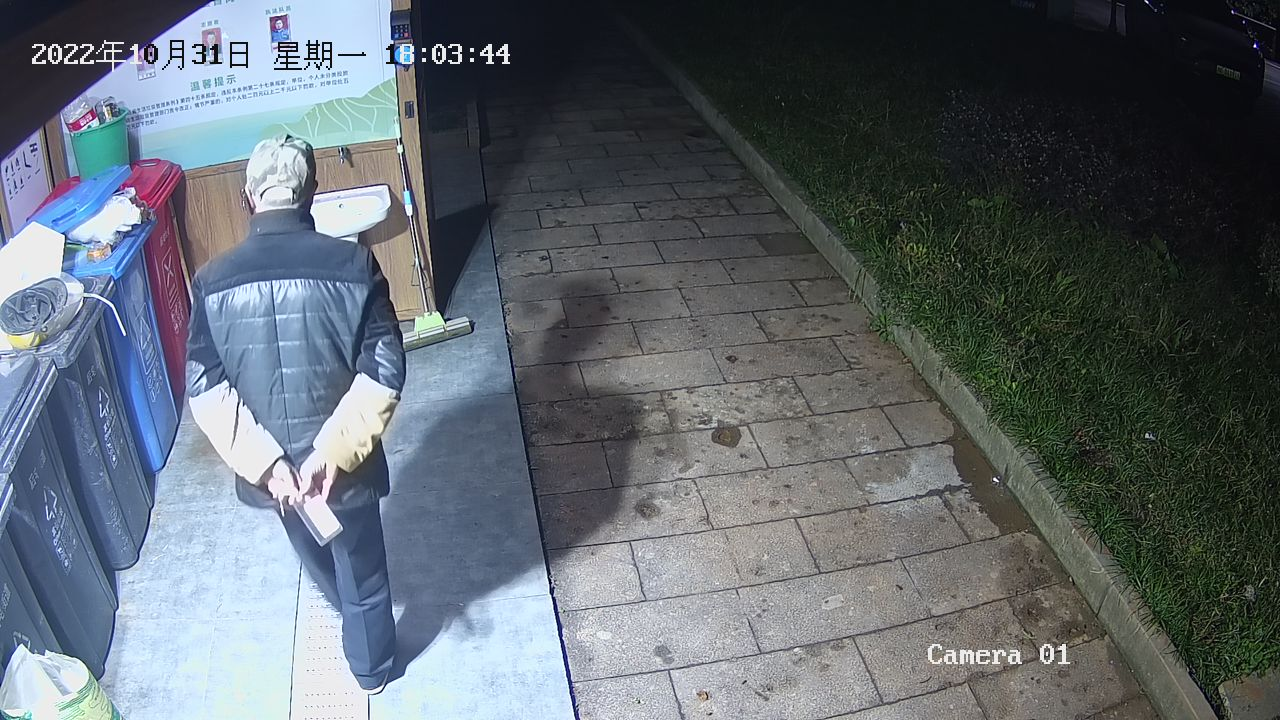person: (182, 131, 408, 696)
